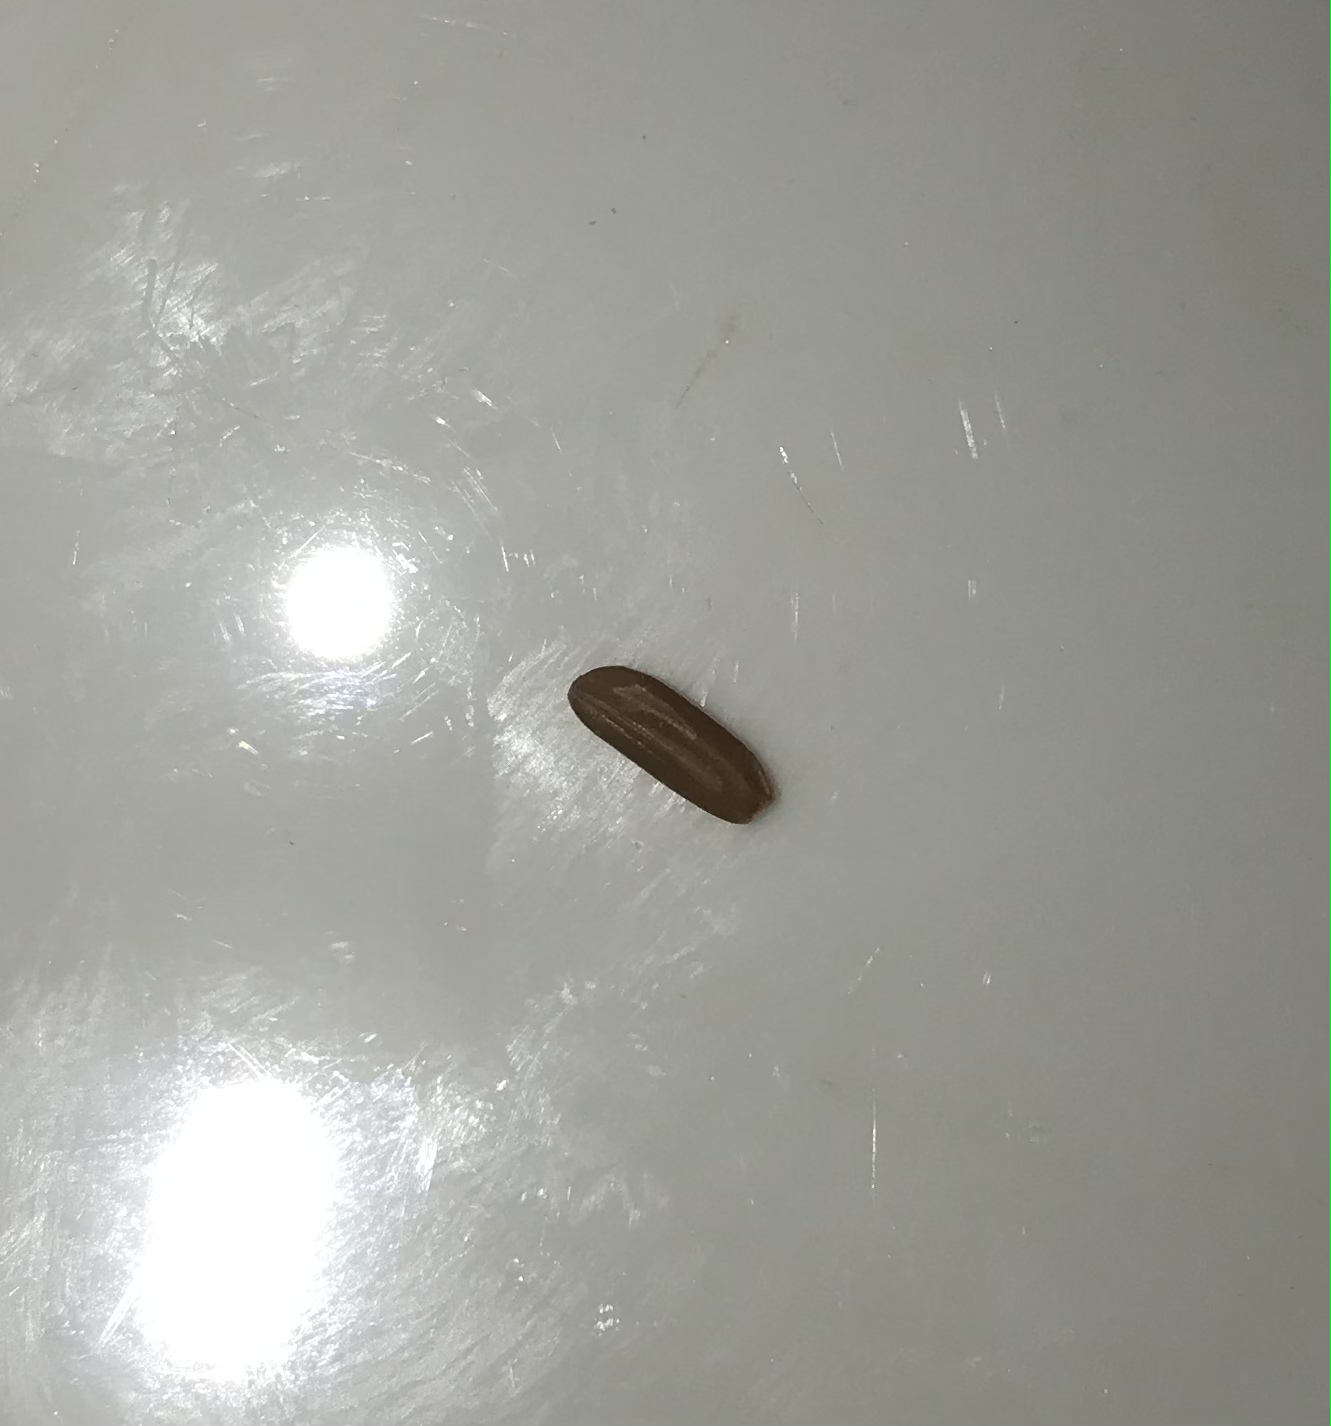Gao Lut Do: (545, 649, 783, 846)
